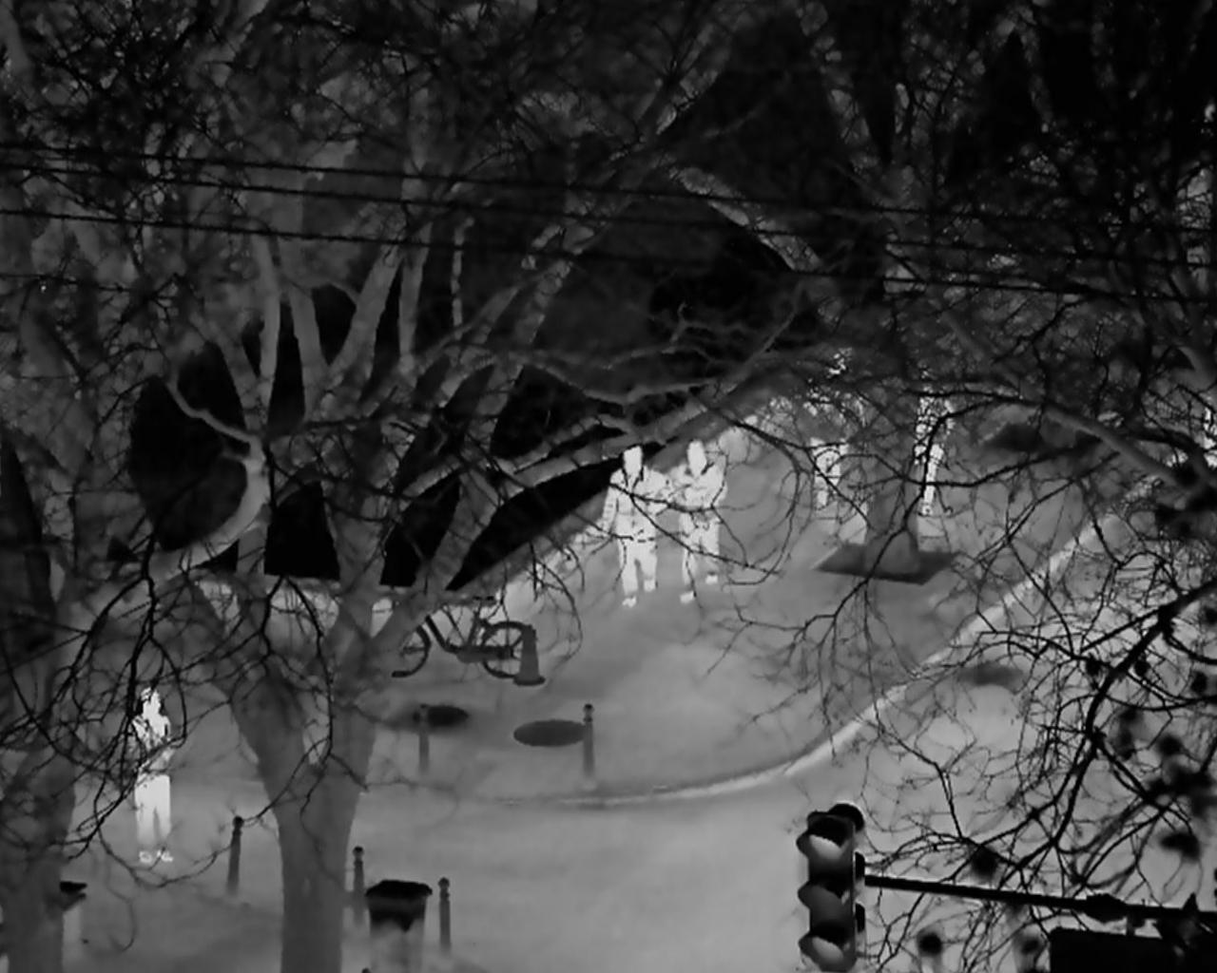person: (602, 444, 670, 607), (124, 687, 181, 864), (669, 439, 724, 603), (810, 345, 848, 504), (912, 377, 956, 512)
